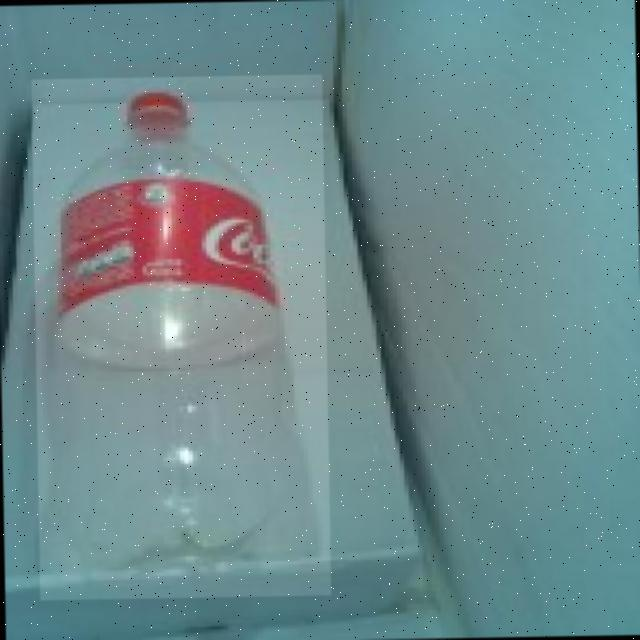bottle: (31, 74, 332, 600)
cap: (122, 86, 192, 127)
label: (50, 189, 290, 312)
